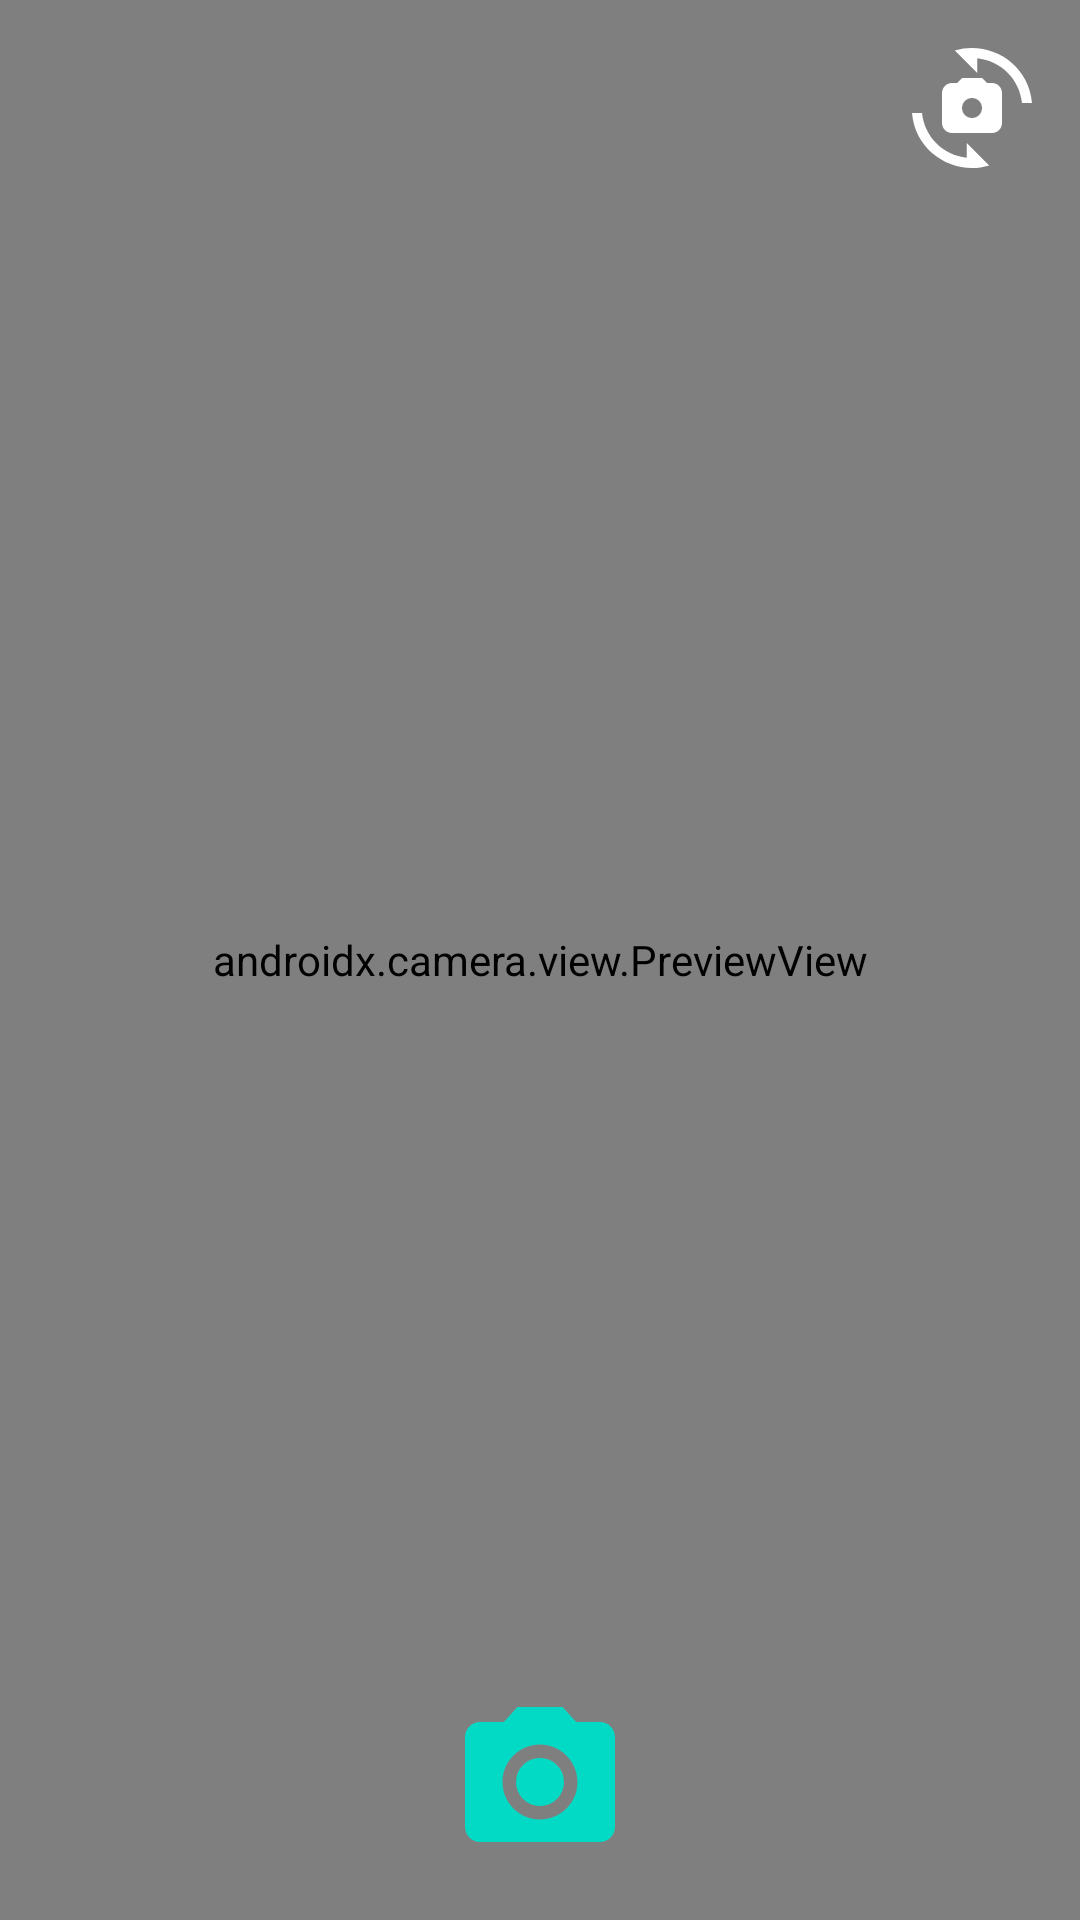

Screen size 1080px×1920px. Icon name, then its box in pixels as (x1, y1, x2, y2):
Tombol ganti kamera: (912, 48, 1032, 168)
Tombol kamera: (465, 1707, 615, 1842)
